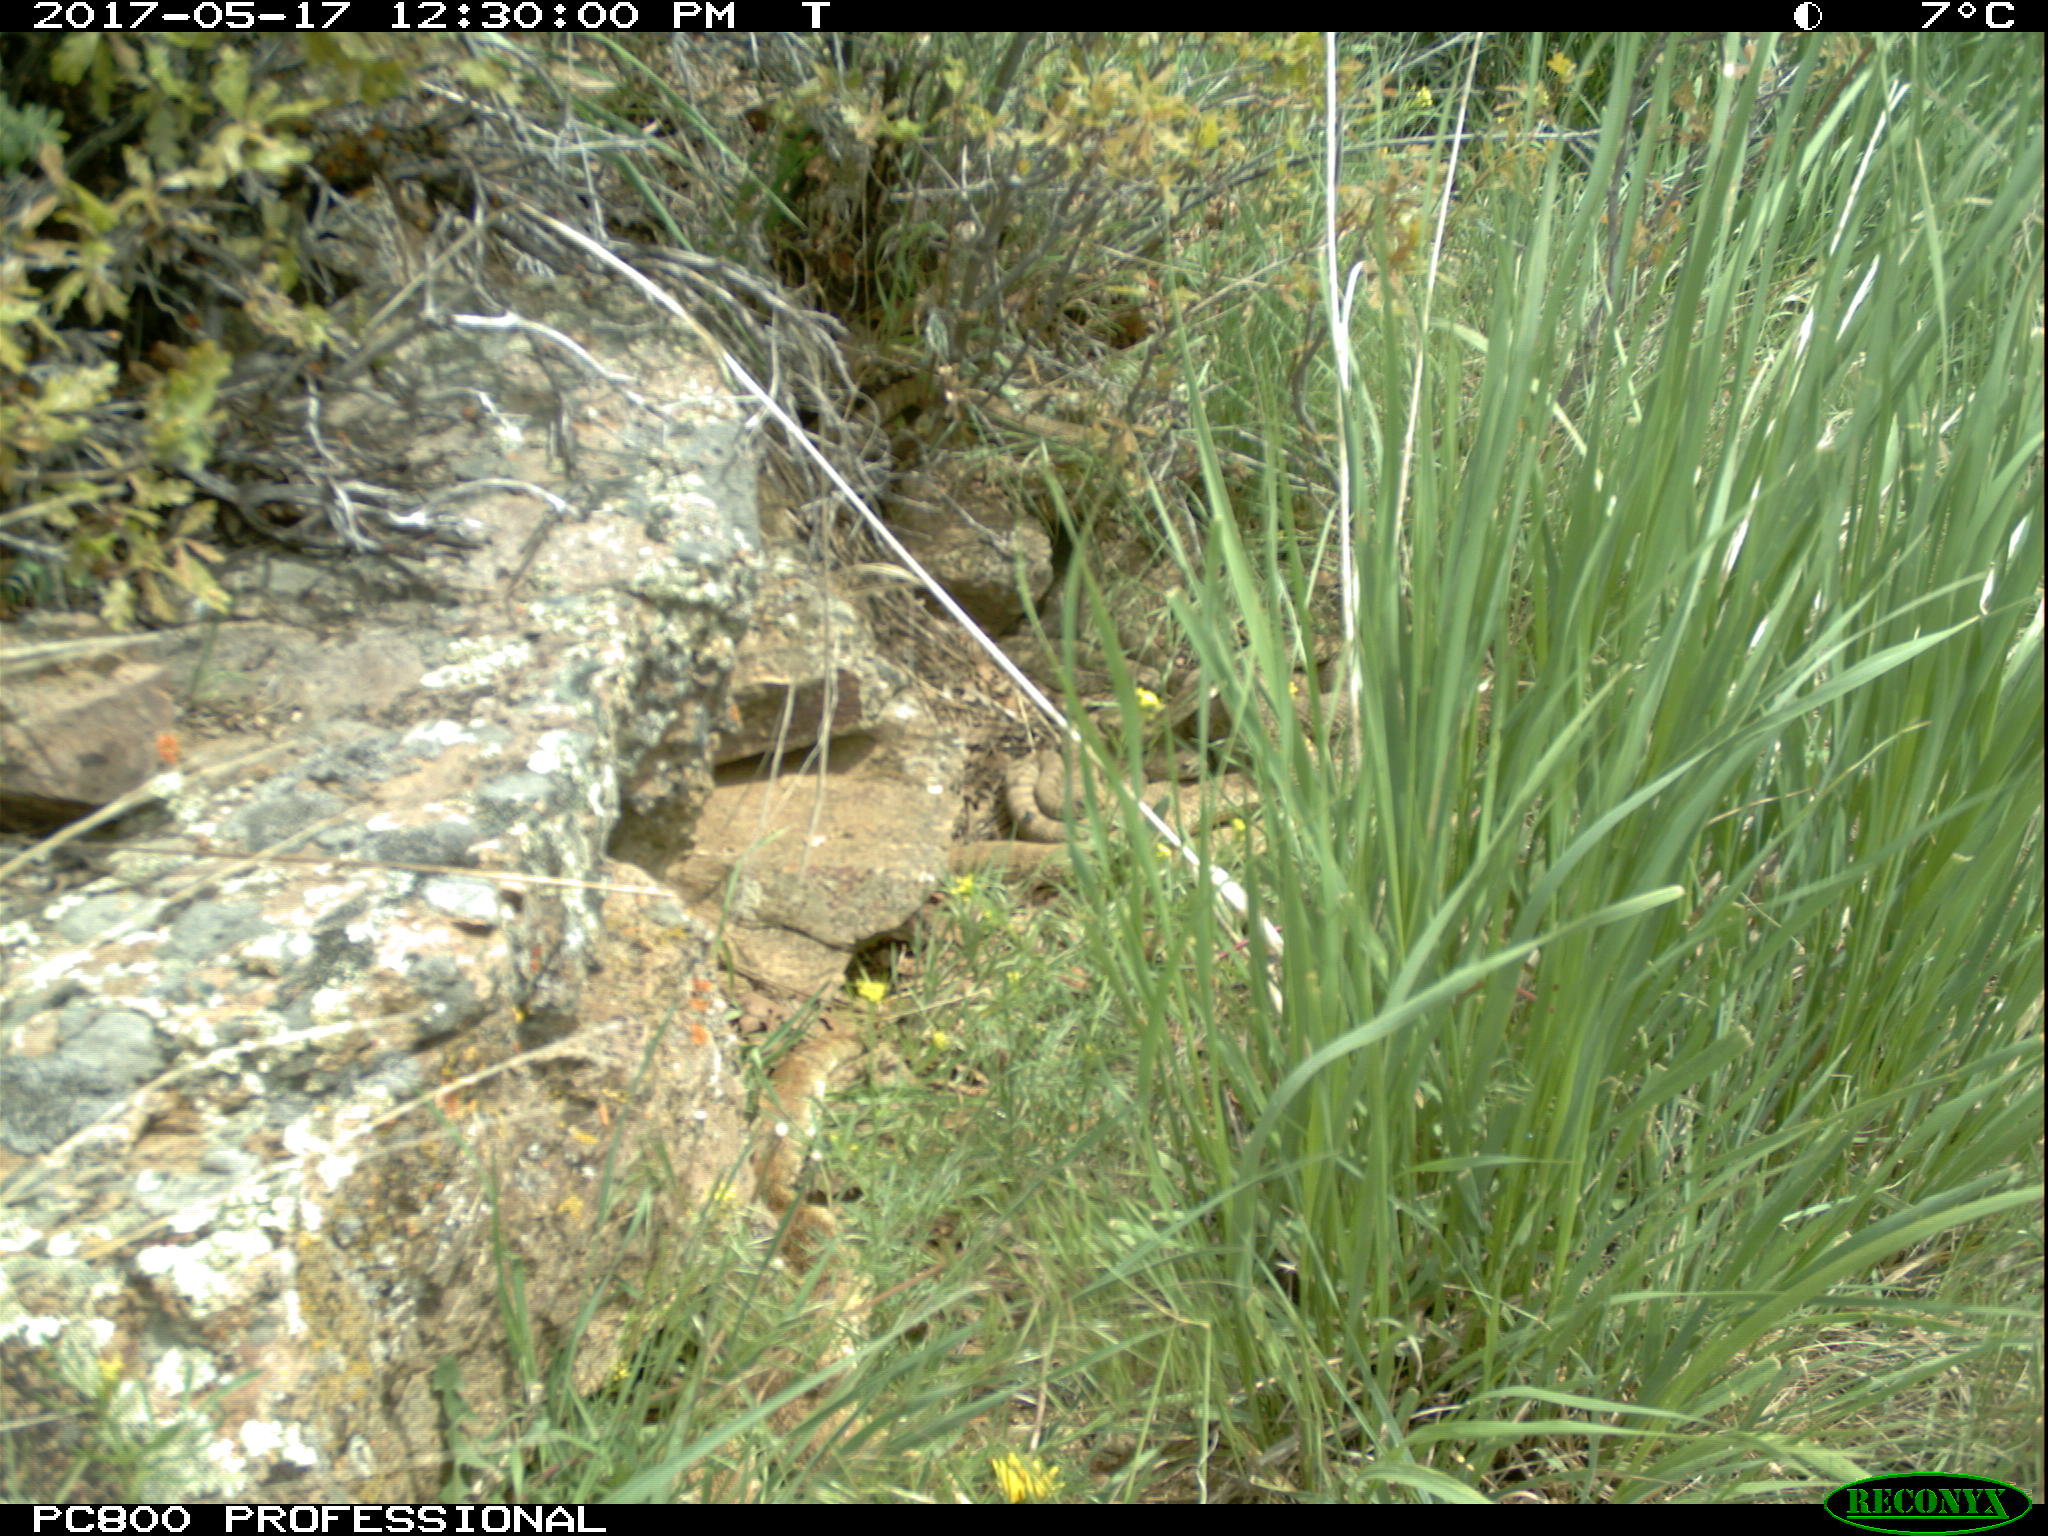snake: (755, 1034, 872, 1400), (1000, 750, 1192, 839), (961, 826, 1240, 883), (1122, 778, 1271, 873)
